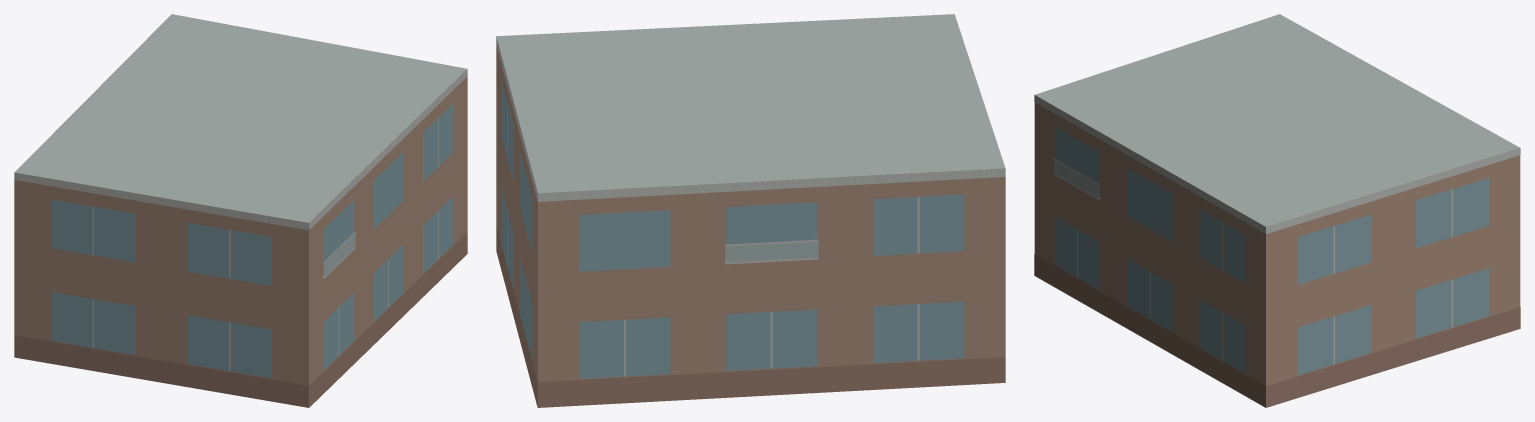
File: survey-upis-32706245.glb
3 renders of one model, left to right at view 1: azimuth 30°, elevation 25°; view 2: azimuth 150°, elevation 25°; view 3: azimuth 270°, elevation 25°, orthographic. The views are drawn at different scales.
Visible parts, largest first — view 1: survey-upis-32706245.tmp; view 2: survey-upis-32706245.tmp; view 3: survey-upis-32706245.tmp.
Part boxes in pixels (left/top/right/bottom): survey-upis-32706245.tmp: left=14, top=14, right=467, bottom=407; survey-upis-32706245.tmp: left=496, top=14, right=1005, bottom=407; survey-upis-32706245.tmp: left=1034, top=14, right=1520, bottom=407.
Size of the model in its own units: 15.41 by 6.1 by 14.86.
